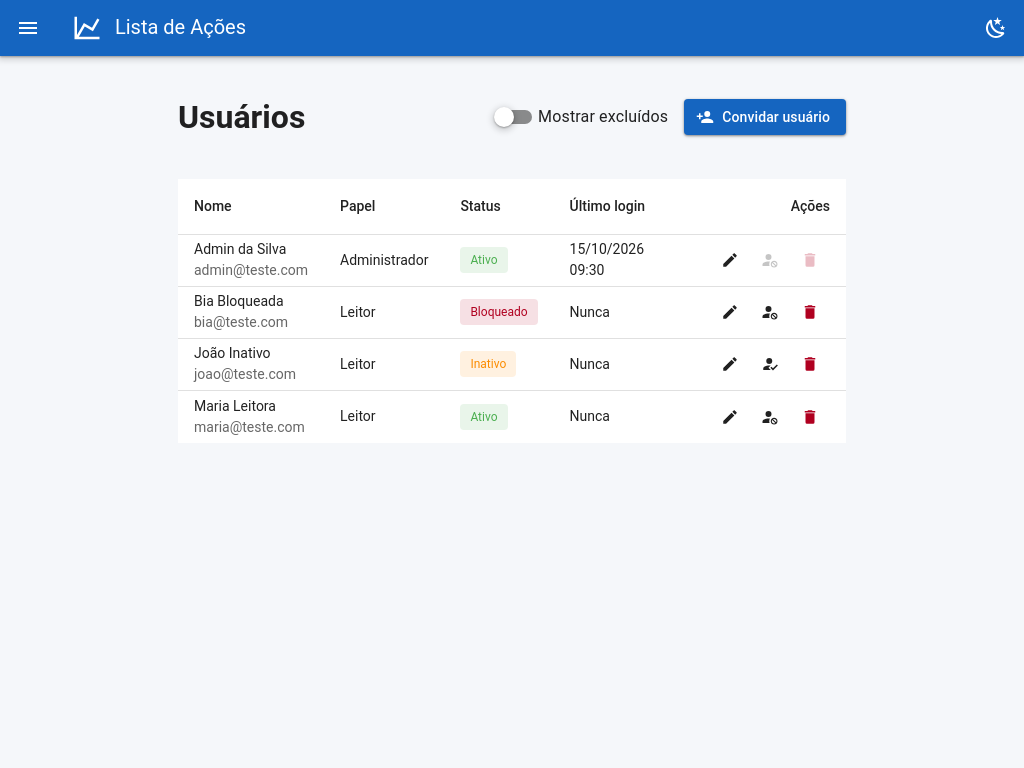
it: tela de usuários › convidar › envia { email, papel } e mostra a confirmação com o aviso de 72 horas
Click the button with test id "convidar" at (765, 117), box top-left (684, 99), bottom-right (846, 135)
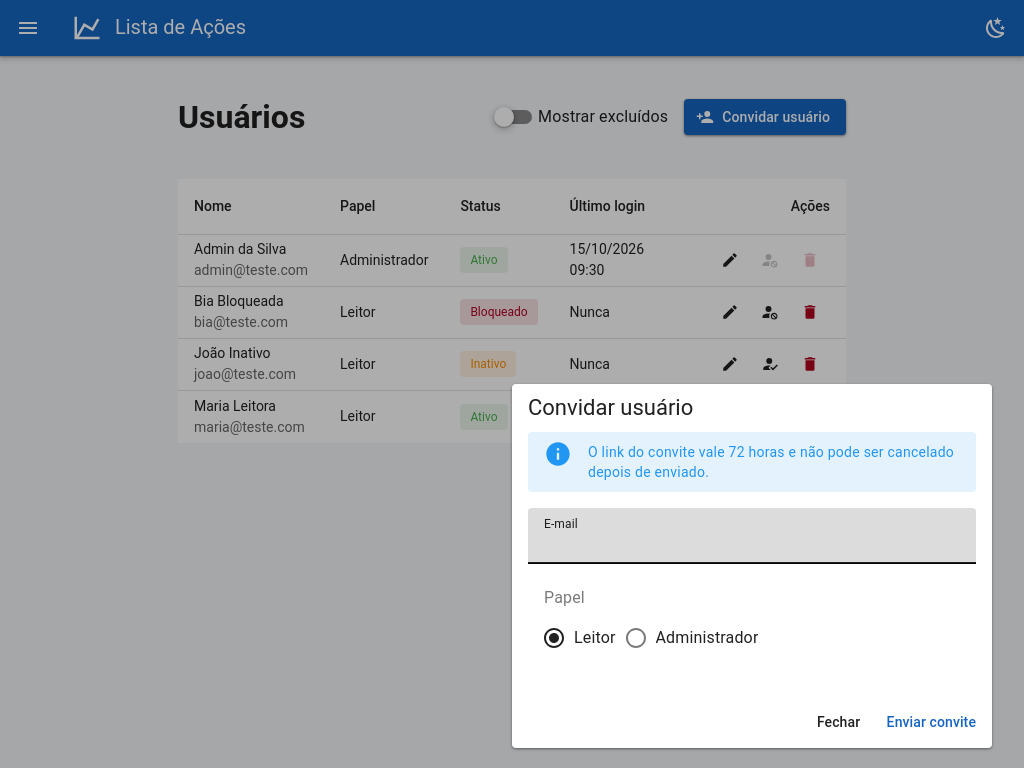
Type "novo@teste.com" into the field labelled "E-mail" at (752, 536), box top-left (528, 508), bottom-right (976, 564)
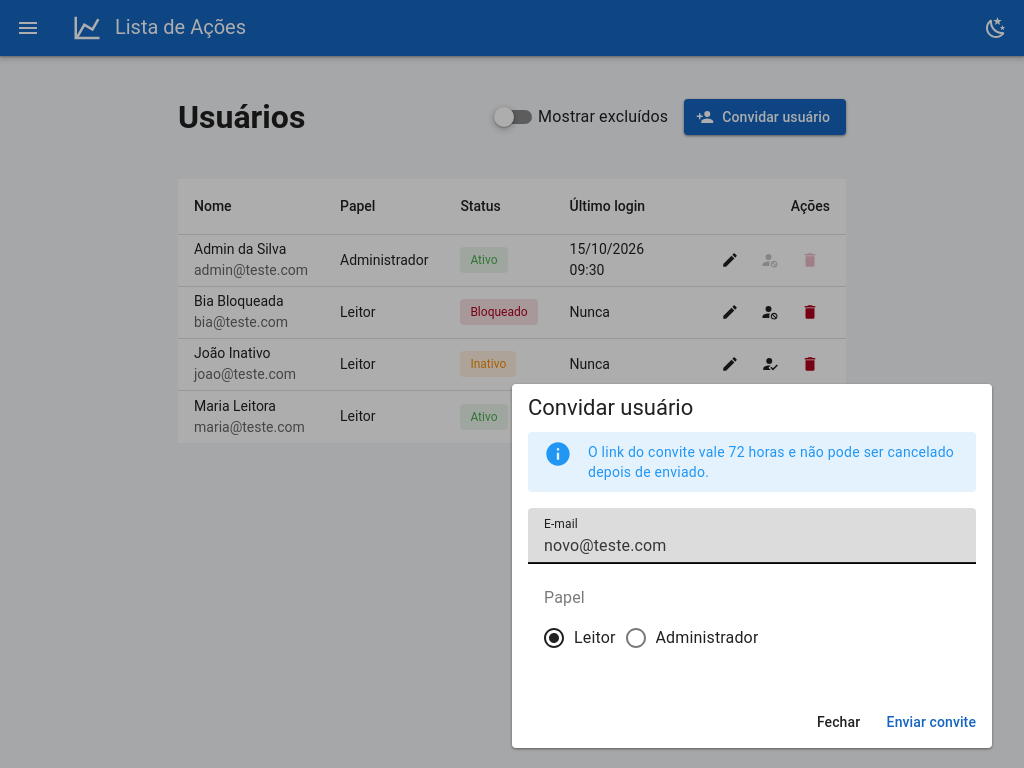
Click the radio button labelled "Administrador" at (707, 638), box top-left (656, 628), bottom-right (758, 647)
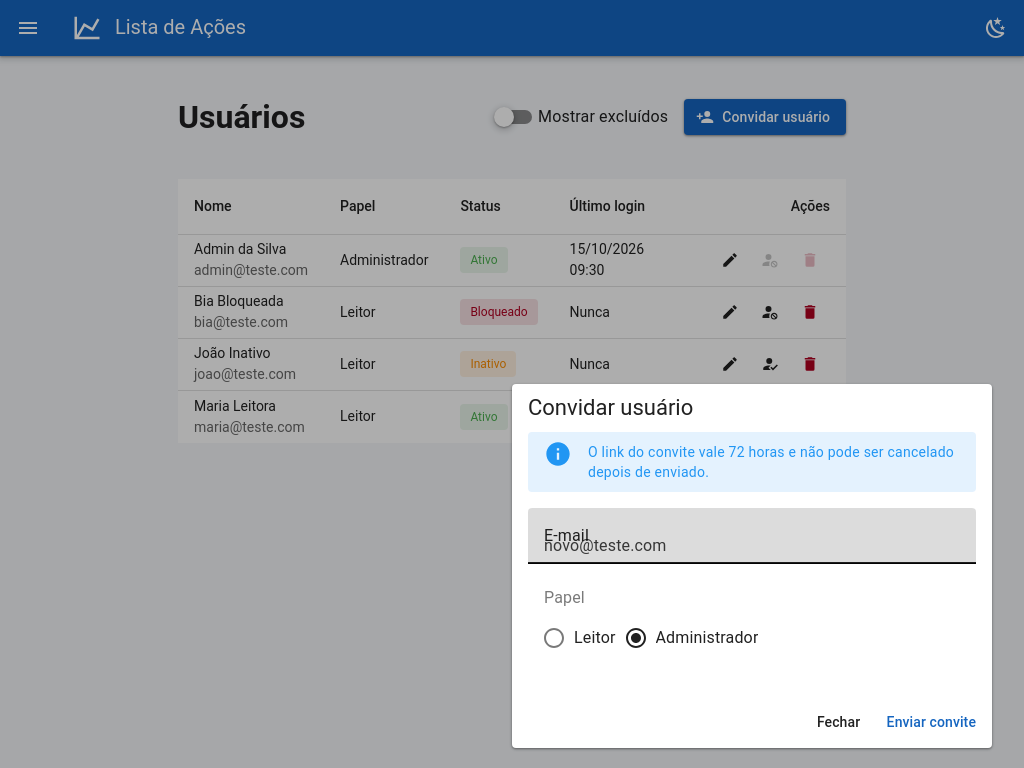
Submit the form with test id "form-convite", box top-left (528, 508), bottom-right (976, 680)
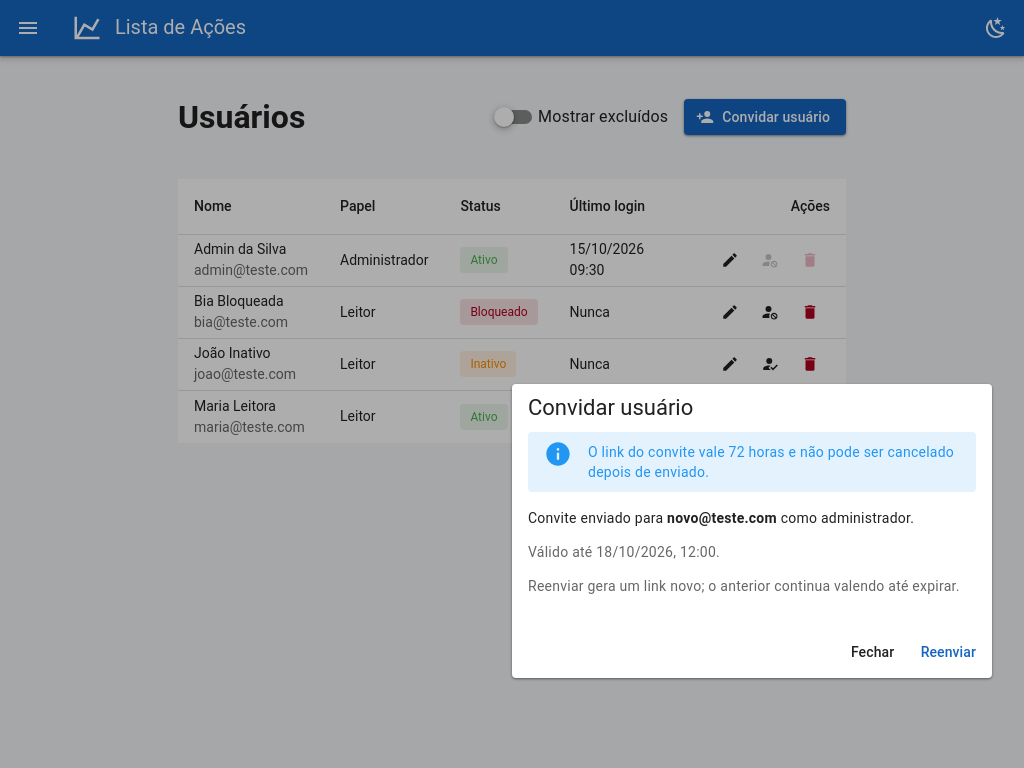
Result: the element with test id "dialogo-convite" shows "72 horas" at top-left (588, 444), bottom-right (954, 480)
Result: the element with test id "dialogo-convite" shows "não pode ser cancelado" at top-left (588, 444), bottom-right (954, 480)
Result: the element with test id "convite-enviado" shows "novo@teste.com" at top-left (667, 510), bottom-right (777, 526)
